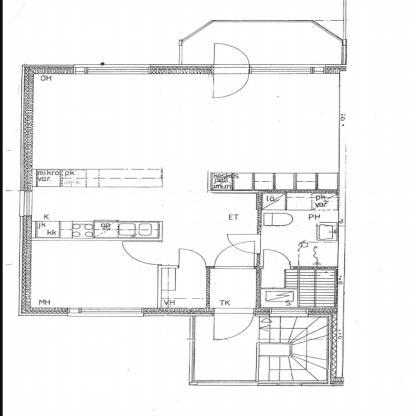door: (211, 40, 252, 104), (204, 303, 256, 340), (212, 237, 258, 268), (117, 241, 169, 268), (226, 231, 264, 255), (176, 247, 209, 270), (258, 246, 290, 269)
window: (65, 59, 152, 76), (249, 62, 324, 79), (63, 306, 148, 320), (264, 303, 318, 322), (15, 190, 35, 218)
